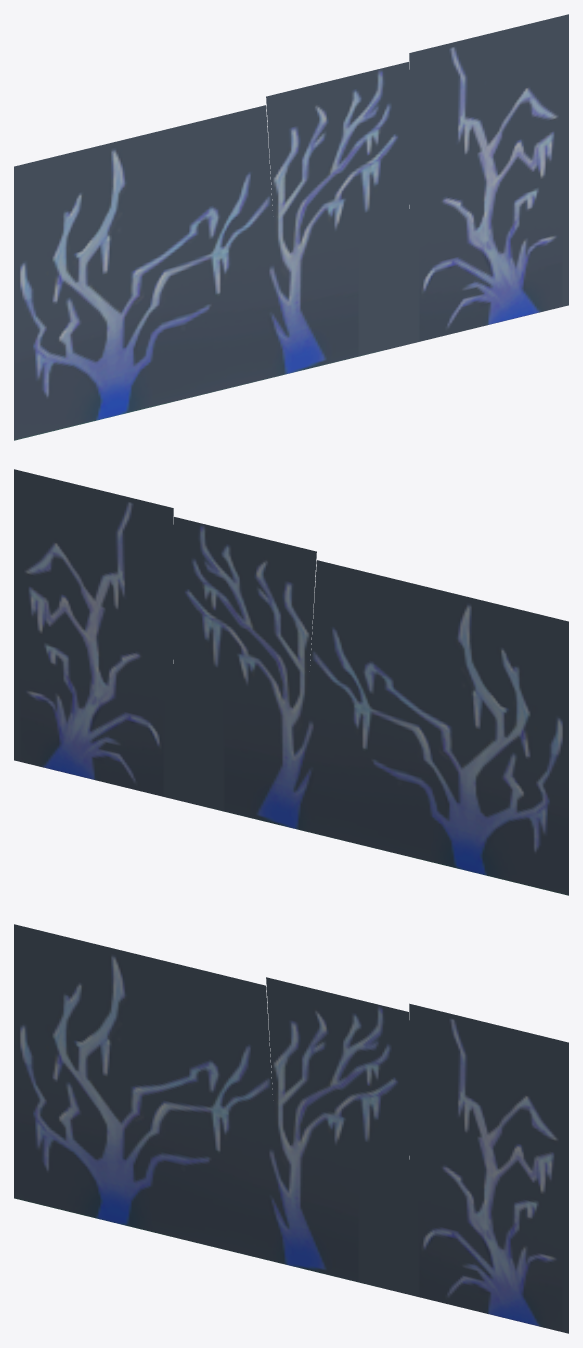
Rendered from FB2_kushuzhi01.FBX.
3 renders of one model, top to bottom at view 1: azimuth 30°, elevation 25°; view 2: azimuth 150°, elevation 25°; view 3: azimuth 330°, elevation 25°, orthographic.
Visible parts, largest first — view 1: FB2_kushuzhi01_001, FB2_kushuzhi01_003, FB2_kushuzhi01_002; view 2: FB2_kushuzhi01_001, FB2_kushuzhi01_003, FB2_kushuzhi01_002; view 3: FB2_kushuzhi01_001, FB2_kushuzhi01_003, FB2_kushuzhi01_002.
Part boxes in pixels (left/top/right/bottom): FB2_kushuzhi01_001: left=14, top=105, right=273, bottom=440; FB2_kushuzhi01_003: left=409, top=14, right=568, bottom=343; FB2_kushuzhi01_002: left=233, top=62, right=409, bottom=387; FB2_kushuzhi01_001: left=309, top=560, right=568, bottom=895; FB2_kushuzhi01_003: left=14, top=469, right=173, bottom=798; FB2_kushuzhi01_002: left=173, top=517, right=349, bottom=842; FB2_kushuzhi01_001: left=14, top=924, right=273, bottom=1251; FB2_kushuzhi01_003: left=409, top=1003, right=568, bottom=1333; FB2_kushuzhi01_002: left=233, top=977, right=409, bottom=1294.
Bounding box in the file's own units: 800 × 401 × 1.75e-05.
Materials: 1 (1 with a texture image).
